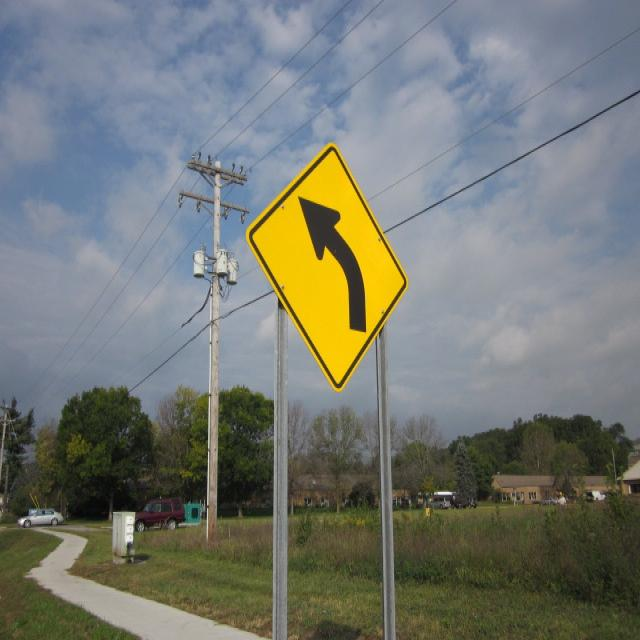warning: (244, 139, 412, 390)
